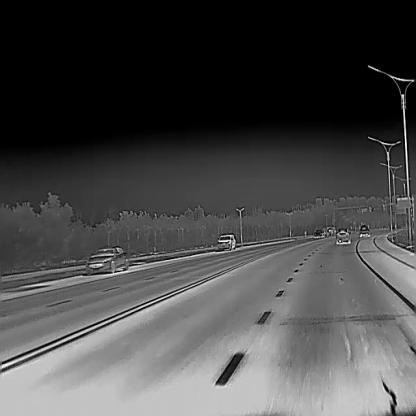car: (85, 245, 128, 275), (217, 233, 235, 250), (335, 229, 351, 245), (358, 225, 371, 237), (314, 229, 325, 238)
